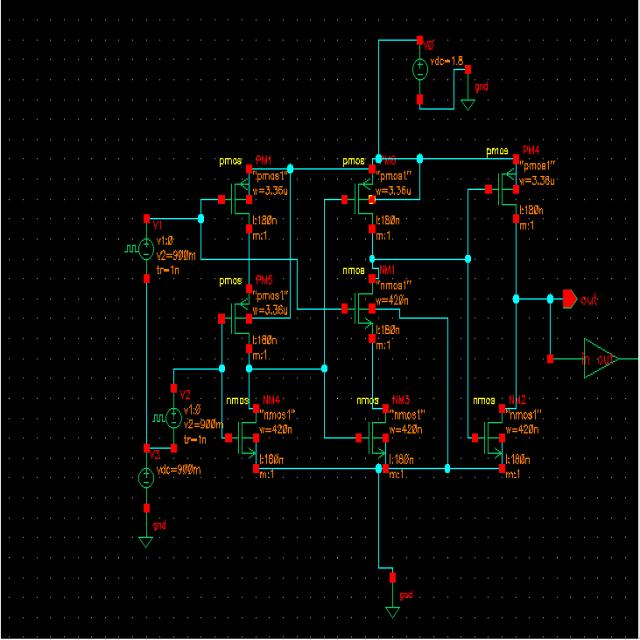nmos: (218, 394, 262, 474), (337, 266, 377, 346), (354, 395, 389, 471), (472, 393, 506, 469)
pmos: (217, 273, 254, 359), (215, 155, 252, 239), (342, 153, 378, 239), (484, 146, 521, 226)
vdc: (121, 213, 158, 285), (150, 383, 184, 451), (132, 448, 162, 515), (408, 35, 433, 113)
